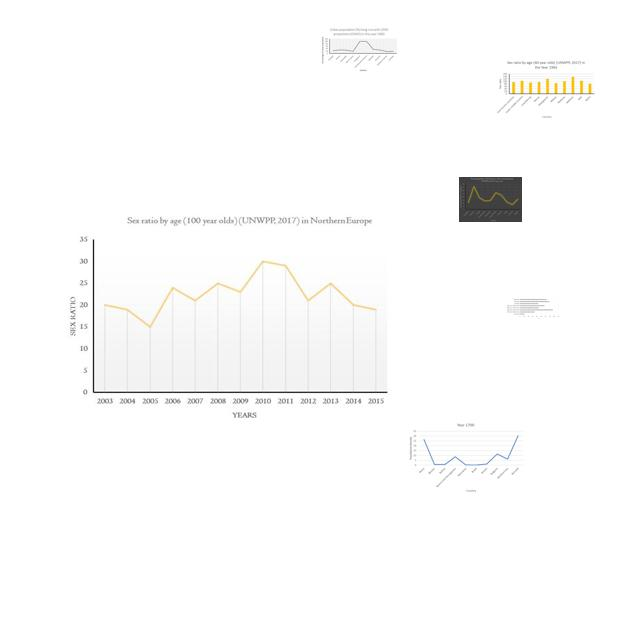Graph: (62, 210, 396, 423), (408, 422, 523, 493), (496, 59, 596, 119), (321, 27, 398, 73), (459, 177, 522, 222), (506, 296, 560, 320)
